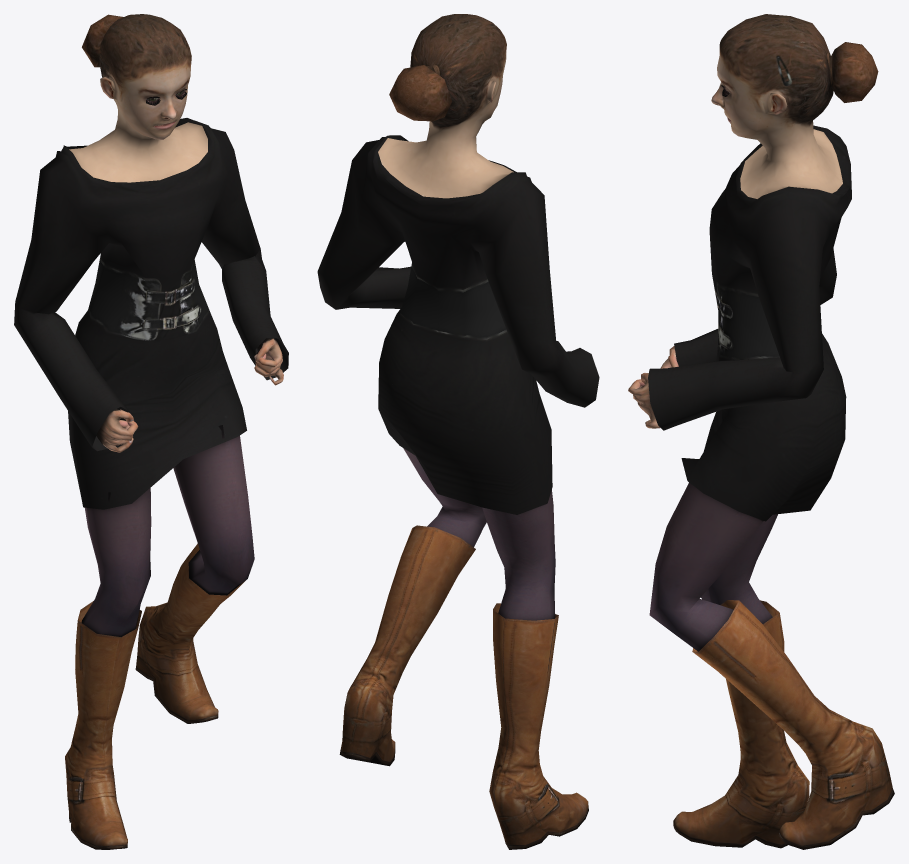
Rendered from Ana_Model_000014.obj.
3 renders of one model, left to right at view 1: azimuth 30°, elevation 25°; view 2: azimuth 150°, elevation 25°; view 3: azimuth 270°, elevation 25°, orthographic. The views are drawn at different scales.
Parts seen in each view (by area): view 1: Ana_Cube.004; view 2: Ana_Cube.004; view 3: Ana_Cube.004.
Boxes of the visible parts, x1,y1,x2,y2 form: Ana_Cube.004: (14, 14, 288, 849); Ana_Cube.004: (317, 14, 599, 849); Ana_Cube.004: (628, 14, 894, 849).
Bounding box in the file's own units: 0.6008 × 1.9 × 0.5384.
1 material, 1 textured.
